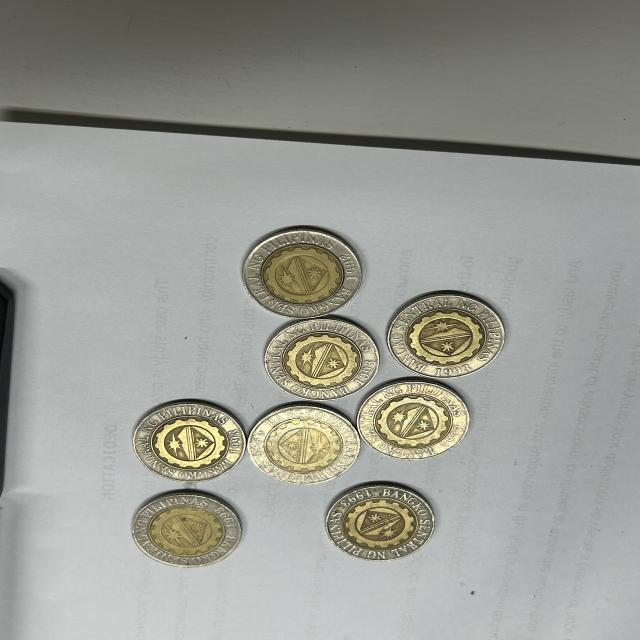10_Old_Back: (246, 228, 364, 312), (266, 323, 382, 395), (392, 296, 498, 372), (327, 487, 437, 557), (362, 384, 473, 453), (128, 493, 239, 562), (249, 411, 353, 483), (136, 409, 246, 473)
